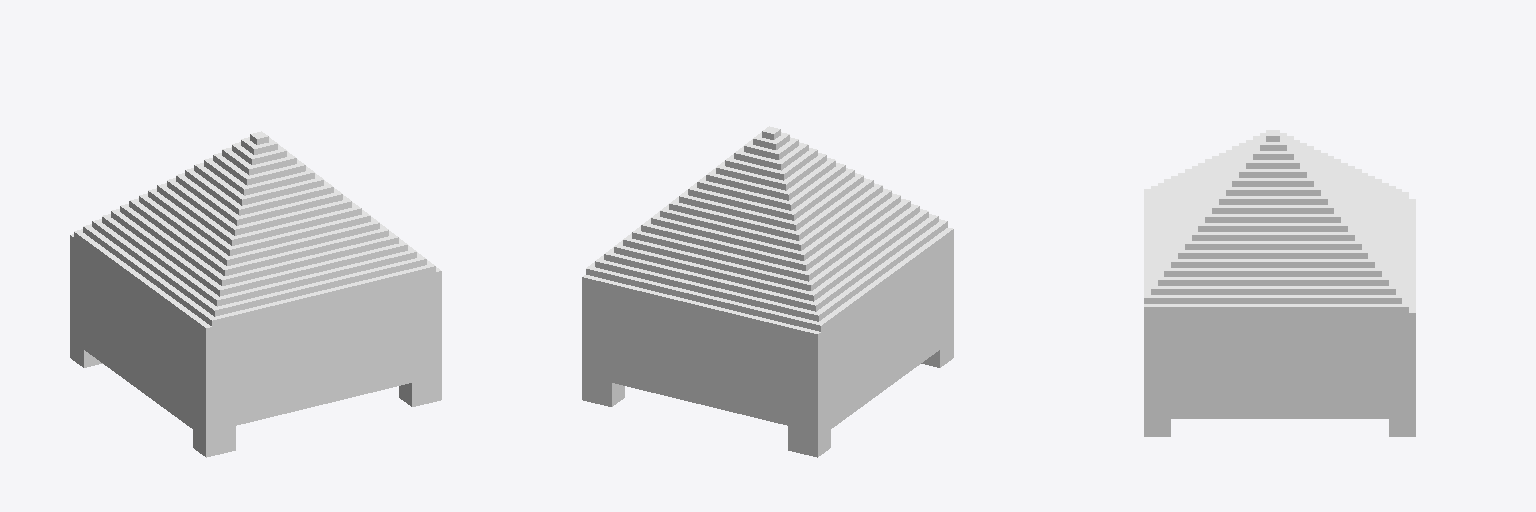
Rendered from death_car.obj.
3 views of the same model, side by side, from view 1: azimuth 30°, elevation 25°; view 2: azimuth 150°, elevation 25°; view 3: azimuth 270°, elevation 25° (orthographic).
Visible parts, largest first — view 1: object 1; view 2: object 1; view 3: object 1.
Part boxes in pixels (left/top/right/bottom): object 1: left=70, top=131, right=441, bottom=457; object 1: left=582, top=126, right=953, bottom=457; object 1: left=1144, top=130, right=1415, bottom=436.
Bounding box in the file's own units: 4 × 4 × 4.